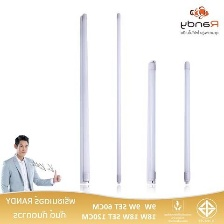light_bulb: (78, 9, 91, 186), (113, 8, 123, 186), (144, 60, 158, 187), (182, 59, 192, 187)
